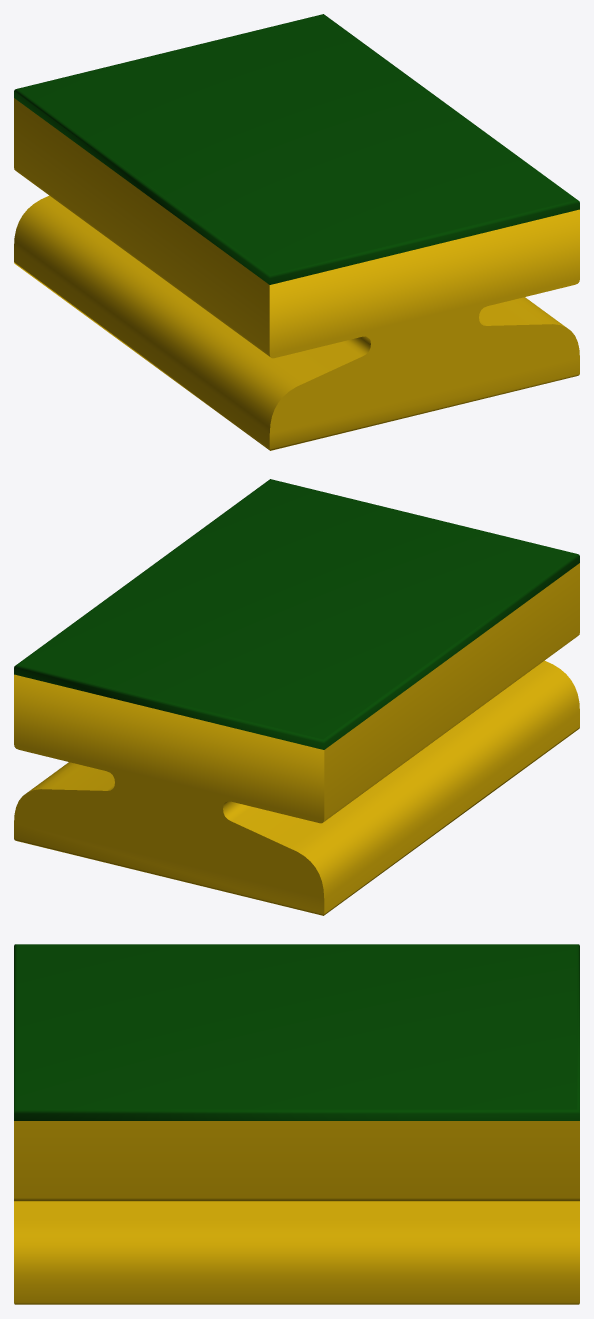
File: sponge.FBX
3 views of the same model, one above another, from view 1: azimuth 30°, elevation 25°; view 2: azimuth 150°, elevation 25°; view 3: azimuth 270°, elevation 25° (orthographic). The views are drawn at different scales.
Parts seen in each view (by area): view 1: Sponge, ScouringPad; view 2: Sponge, ScouringPad; view 3: Sponge, ScouringPad.
Part boxes in pixels (x1,y1,x2,y2): Sponge: (14,98,579,450); ScouringPad: (14,14,579,284); Sponge: (14,563,579,915); ScouringPad: (14,479,579,749); Sponge: (14,1121,579,1304); ScouringPad: (14,944,579,1120).
Size of the model in its own units: 35 by 19 by 50.
